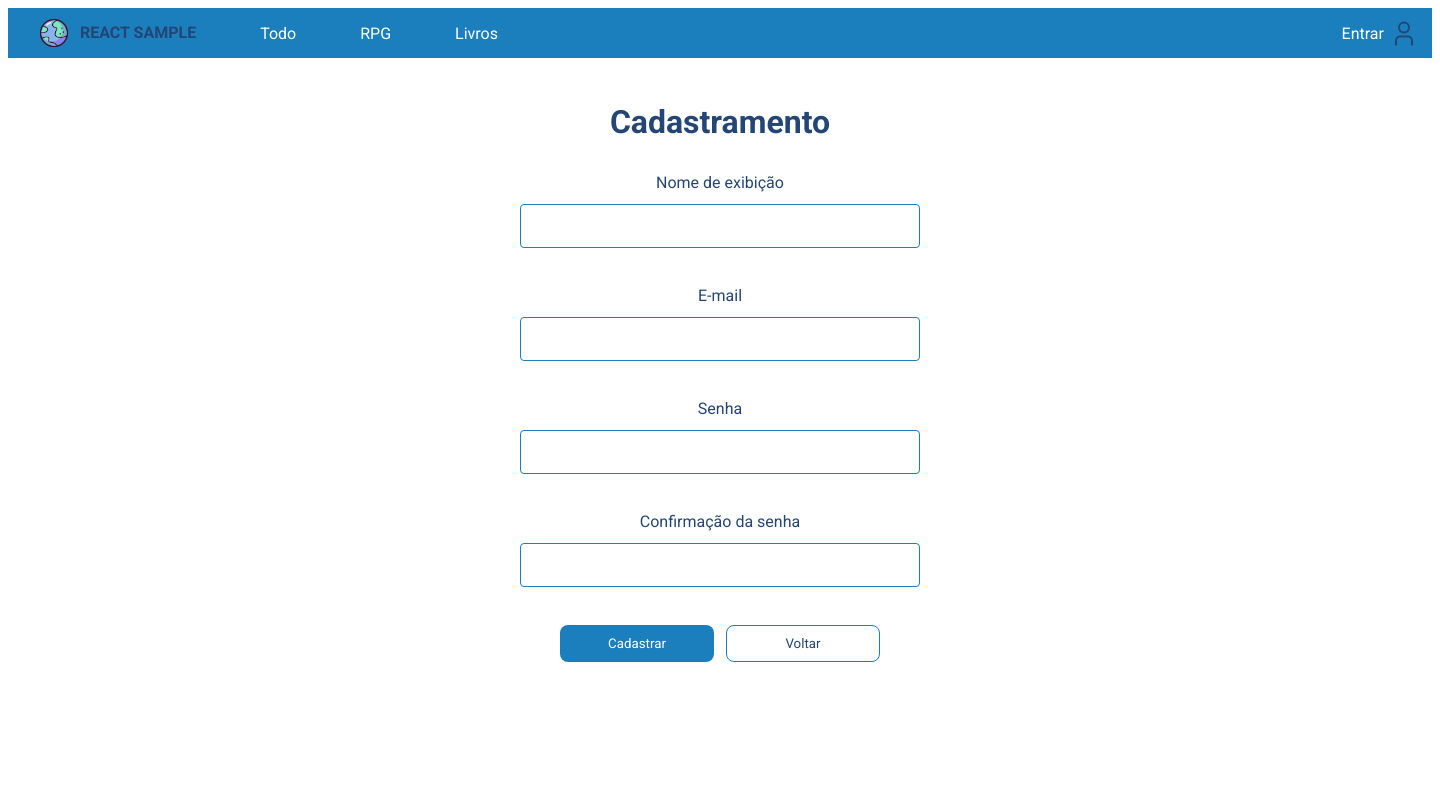
RegisterPage › deve exibir mensagem de erro se formato de e-mail for inválido
The width and height of the screenshot is (1440, 810).
Type "a.com.br" into the field titled "email" at (720, 339), box [520, 317, 920, 361]
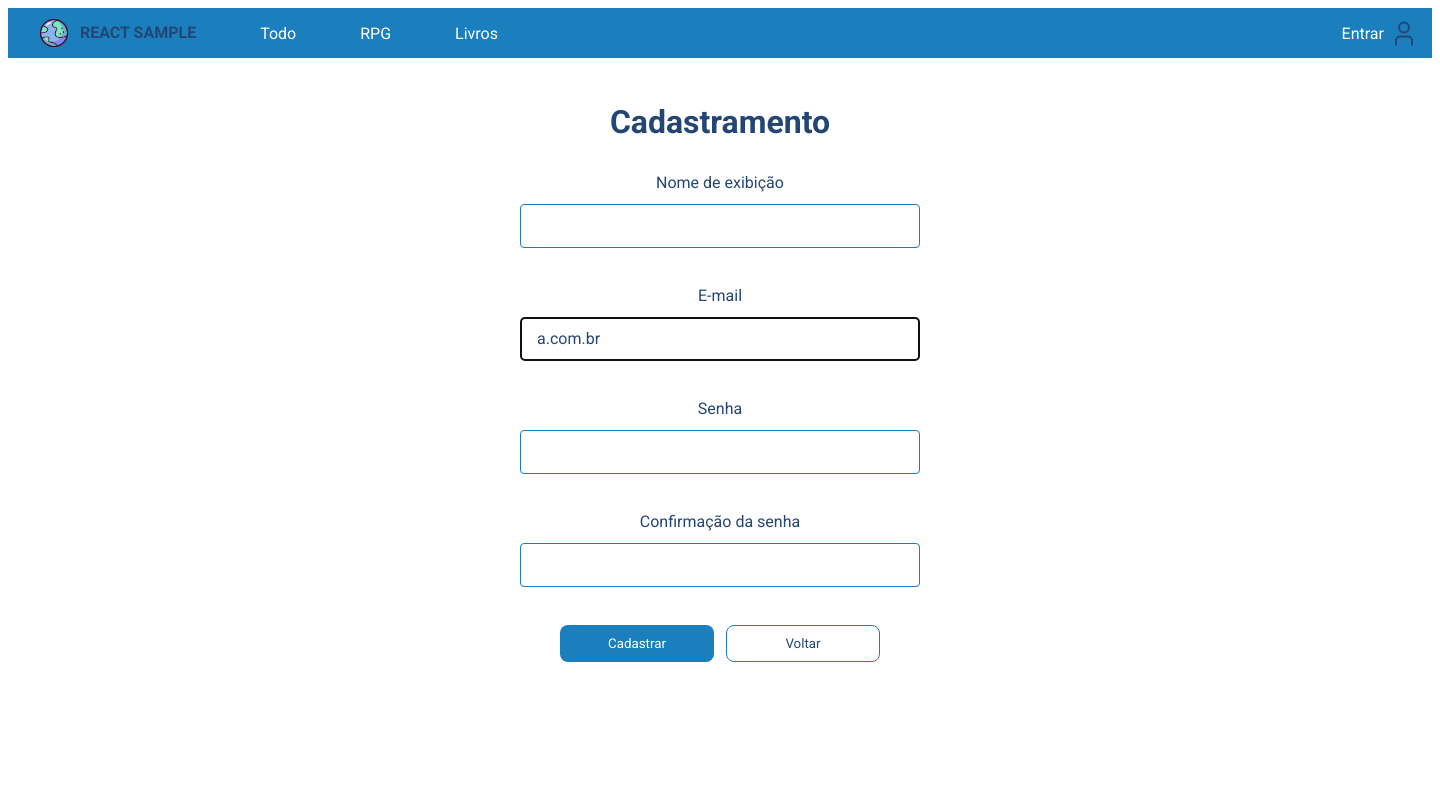
Click the button "Cadastrar" at (637, 643), box [560, 625, 714, 662]
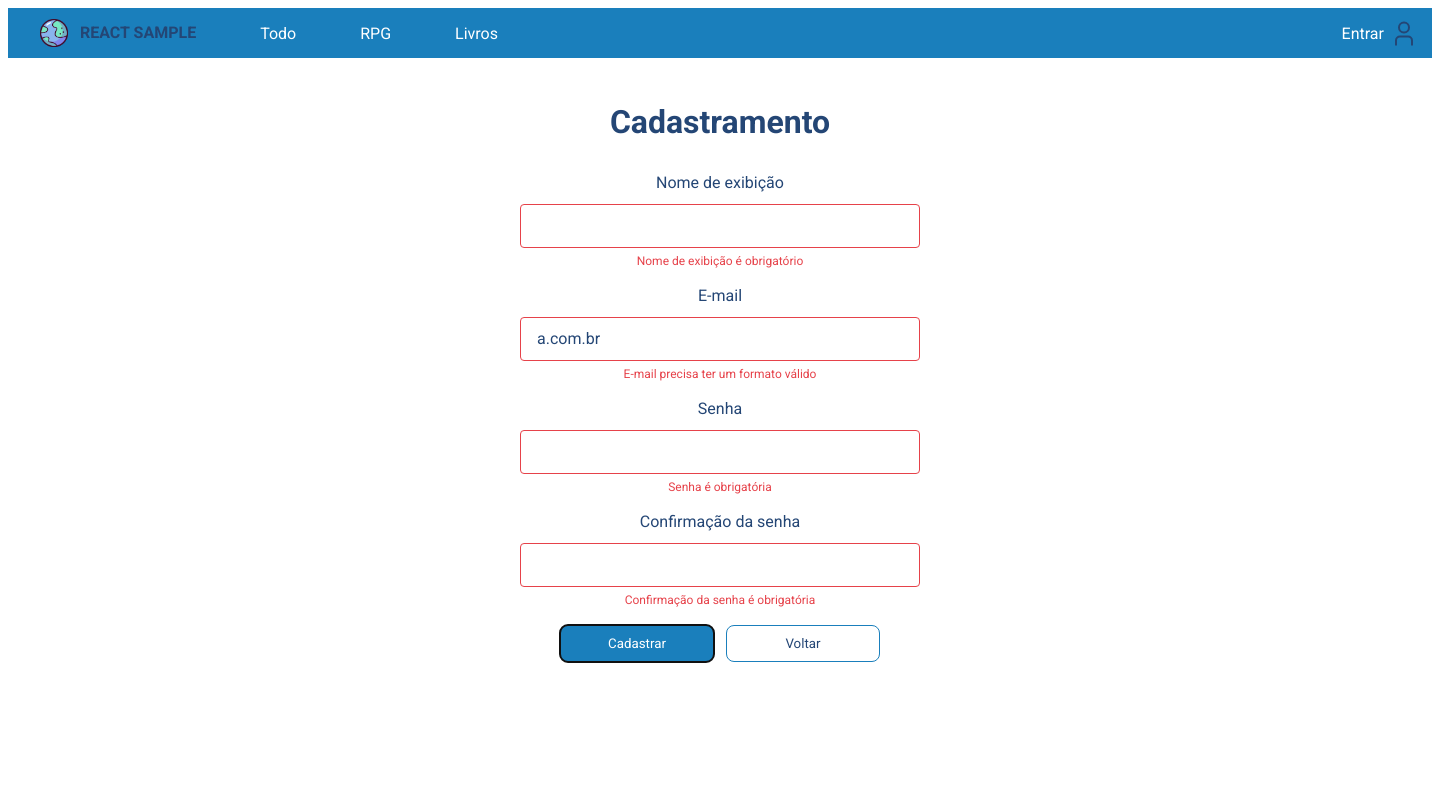
Check: the text "E-mail precisa ter um formato válido" is shown, box [624, 367, 816, 381]
